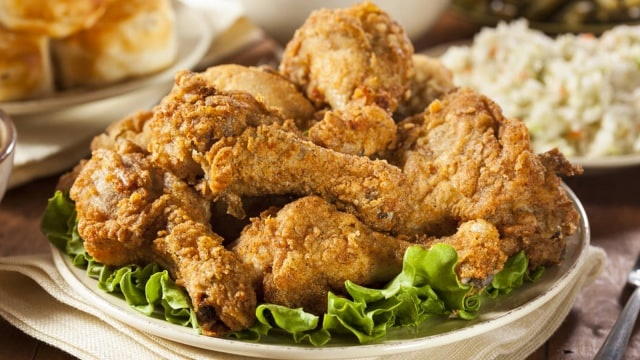ayam_goreng: (215, 80, 567, 244), (64, 128, 273, 327)
